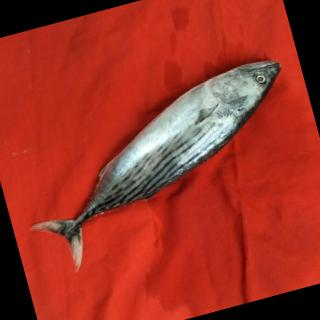Ikan: (1, 48, 320, 280)
